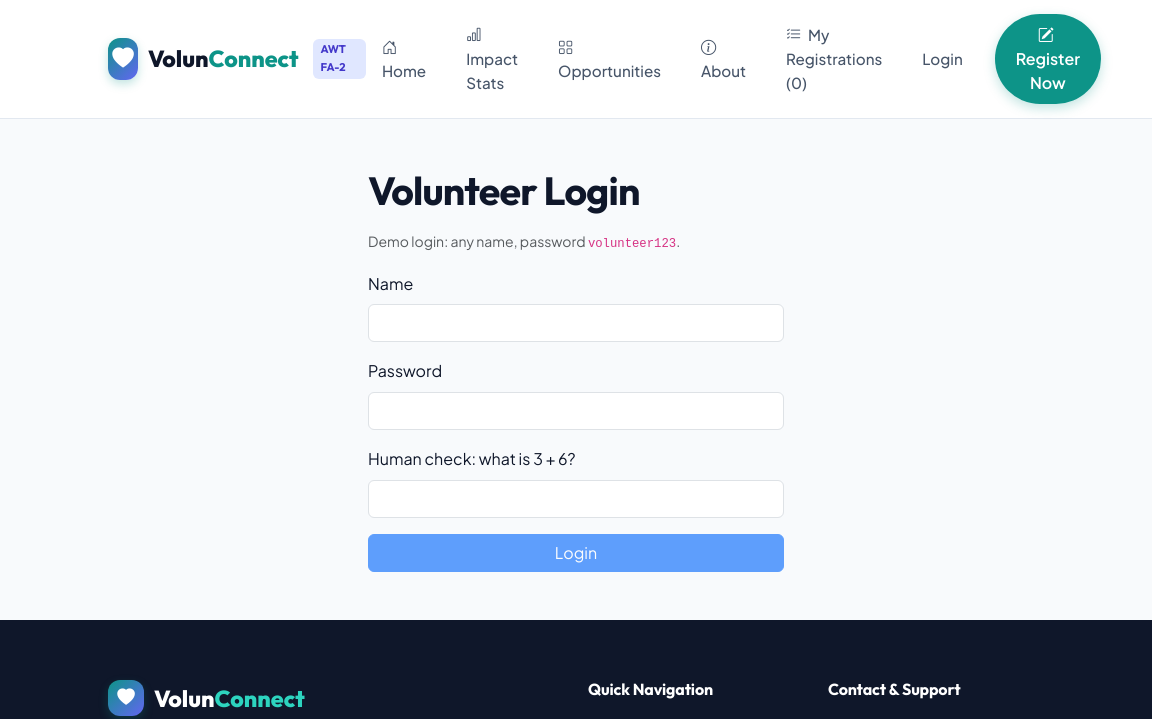
end-to-end registration flow › wrong password shows an error and keeps the user on login
In the field labelled "Name": [576, 323] box [368,304,784,342], type "Shreya"
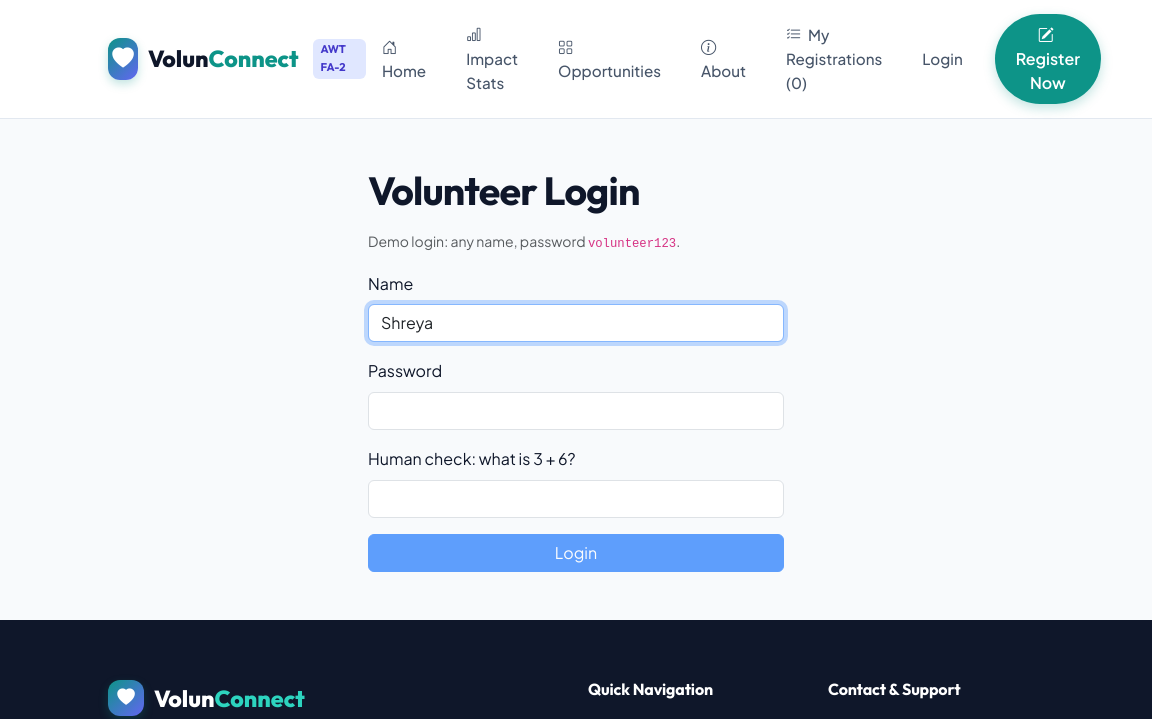
In the password field labelled "Password": [576, 411] box [368,392,784,430], type "wrong"
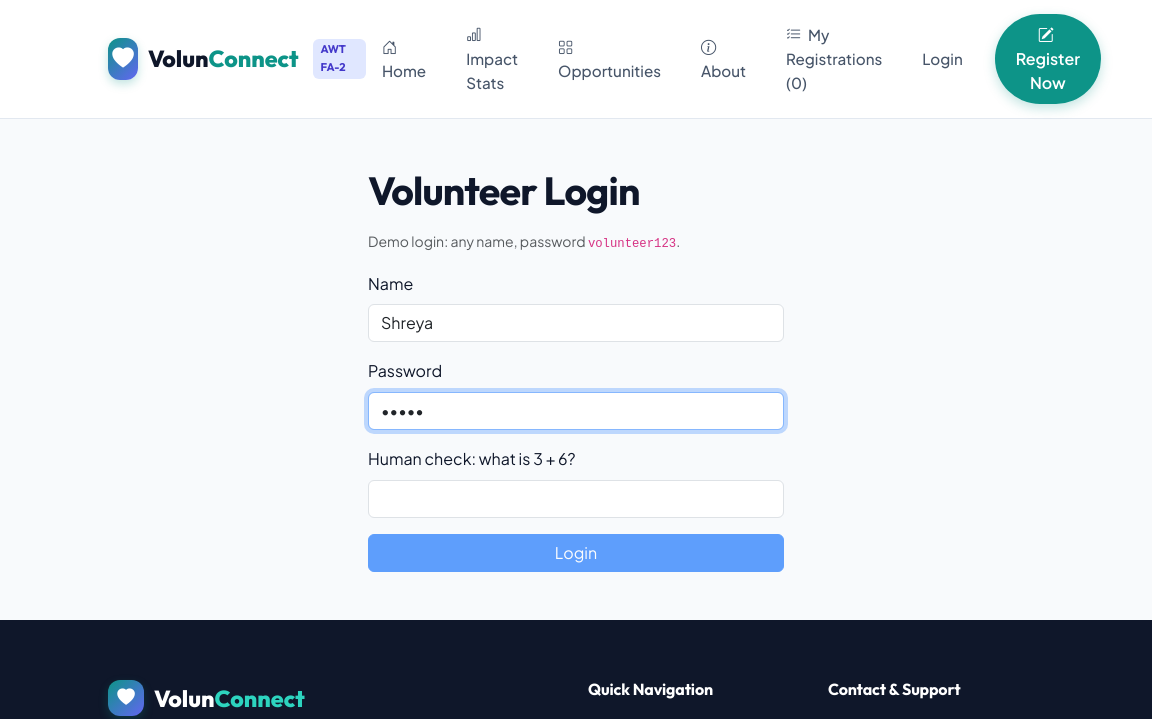
In the field labelled "Human check: what is 3 + 6?": [576, 498] box [368,480,784,518], type "9"
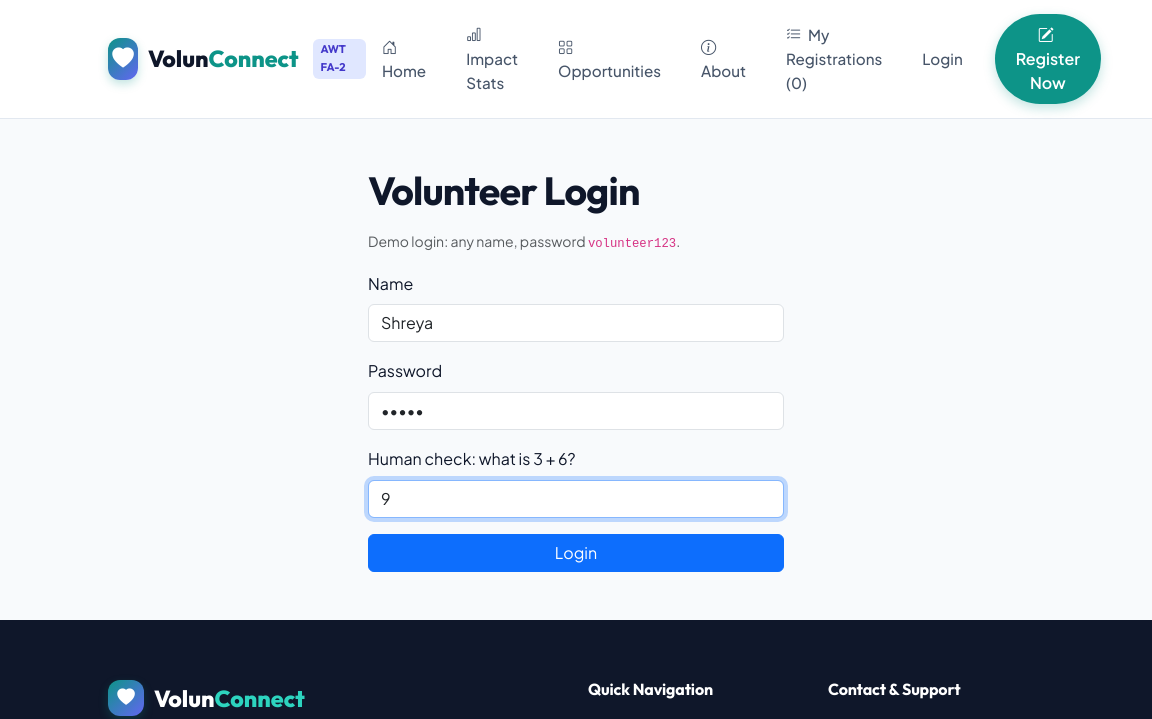
Click the button "Login": [576, 552] box [368,534,784,572]
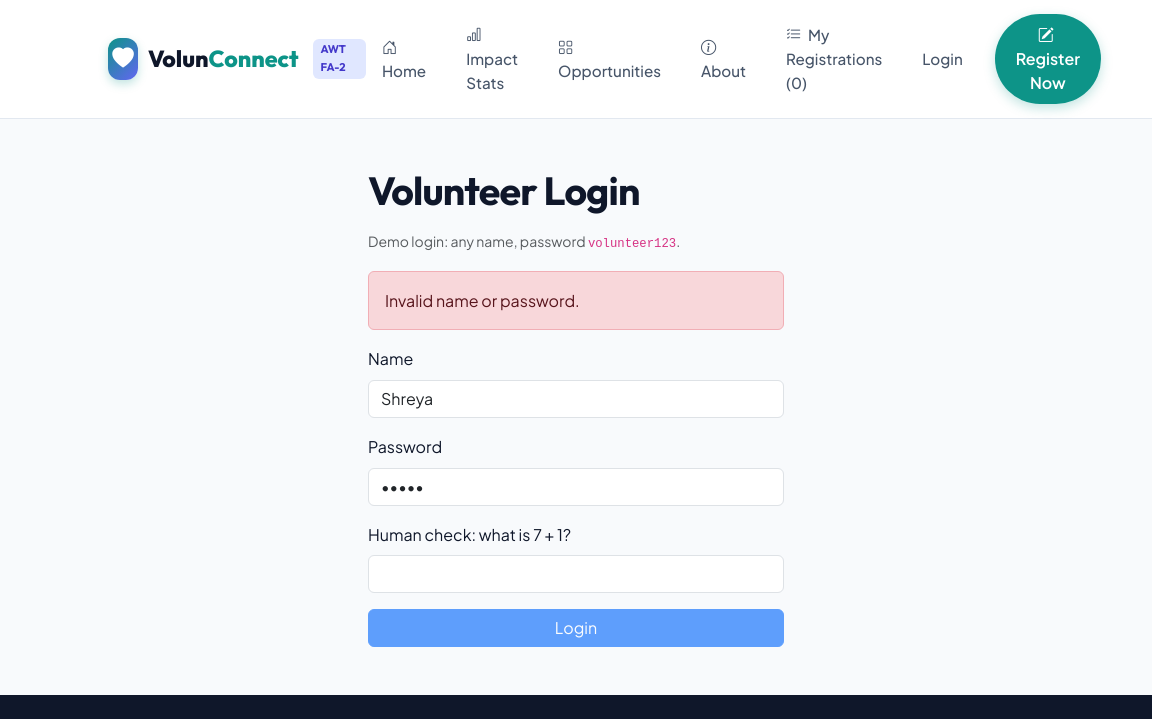
Now the message shows "Invalid", box [385,290,580,311]
